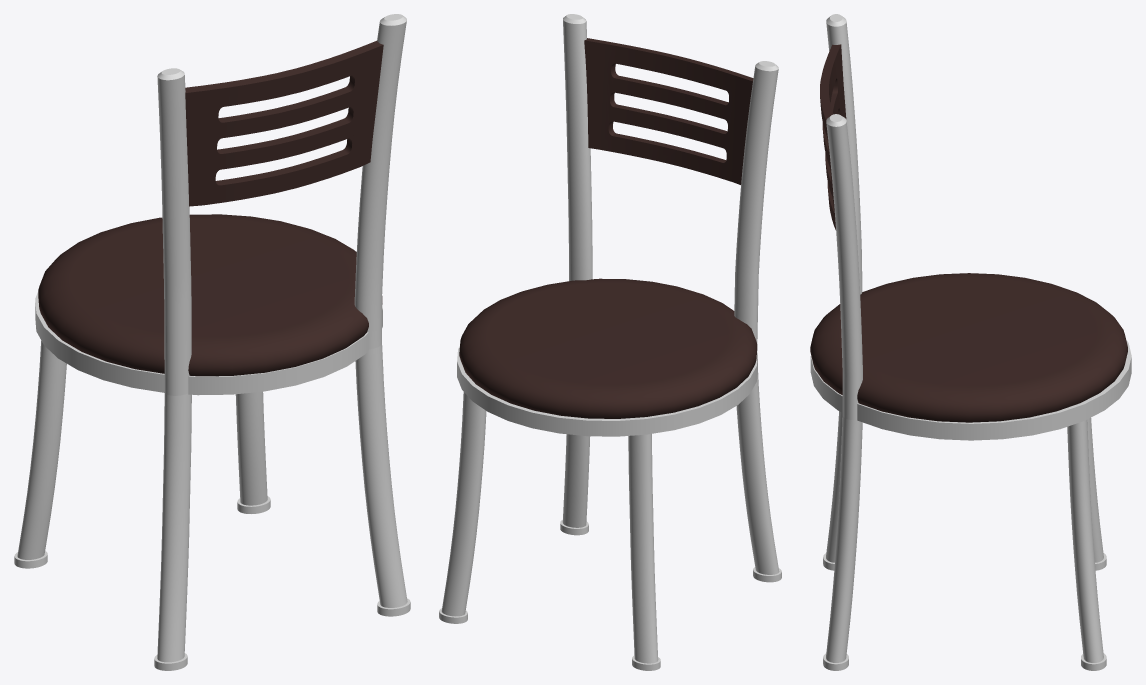
Rendered from Chaise5_4.fbx.
3 views of the same model, side by side, from view 1: azimuth 30°, elevation 25°; view 2: azimuth 150°, elevation 25°; view 3: azimuth 270°, elevation 25° (orthographic). The views are drawn at different scales.
Parts seen in each view (by area): view 1: pCylinder1683, pCube2686, pCylinder1687, pCylinder1682, pCylinder1686, pCylinder1690, pCylinder1684, pCylinder1688, pCylinder1689; view 2: pCylinder1683, pCube2686, pCylinder1687, pCylinder1682, pCylinder1684, pCylinder1688, pCylinder1689, pCylinder1686, pCylinder1690; view 3: pCylinder1683, pCylinder1682, pCylinder1684, pCylinder1690, pCylinder1689, pCylinder1687, pCube2686, pCylinder1686, pCylinder1688.
Boxes of the visible parts, left/top/right/bottom form: pCylinder1683: left=38, top=214, right=382, bottom=376; pCube2686: left=185, top=40, right=383, bottom=206; pCylinder1687: left=157, top=68, right=191, bottom=395; pCylinder1682: left=354, top=14, right=406, bottom=349; pCylinder1686: left=154, top=393, right=191, bottom=670; pCylinder1690: left=355, top=344, right=410, bottom=616; pCylinder1684: left=35, top=291, right=382, bottom=395; pCylinder1688: left=14, top=340, right=66, bottom=568; pCylinder1689: left=235, top=391, right=270, bottom=513; pCylinder1683: left=459, top=278, right=757, bottom=418; pCube2686: left=584, top=38, right=753, bottom=184; pCylinder1687: left=734, top=61, right=778, bottom=343; pCylinder1682: left=563, top=14, right=592, bottom=281; pCylinder1684: left=457, top=346, right=757, bottom=436; pCylinder1688: left=628, top=434, right=660, bottom=670; pCylinder1689: left=439, top=392, right=486, bottom=623; pCylinder1686: left=736, top=370, right=781, bottom=582; pCylinder1690: left=560, top=434, right=590, bottom=535; pCylinder1683: left=810, top=273, right=1127, bottom=422; pCylinder1682: left=826, top=114, right=862, bottom=419; pCylinder1684: left=810, top=340, right=1131, bottom=440; pCylinder1690: left=823, top=416, right=862, bottom=670; pCylinder1689: left=1067, top=420, right=1106, bottom=670; pCylinder1687: left=826, top=14, right=862, bottom=294; pCube2686: left=820, top=44, right=846, bottom=229; pCylinder1686: left=823, top=411, right=842, bottom=570; pCylinder1688: left=1087, top=417, right=1106, bottom=570.
Bounding box in the file's own units: 44.7 × 83.92 × 44.78.
